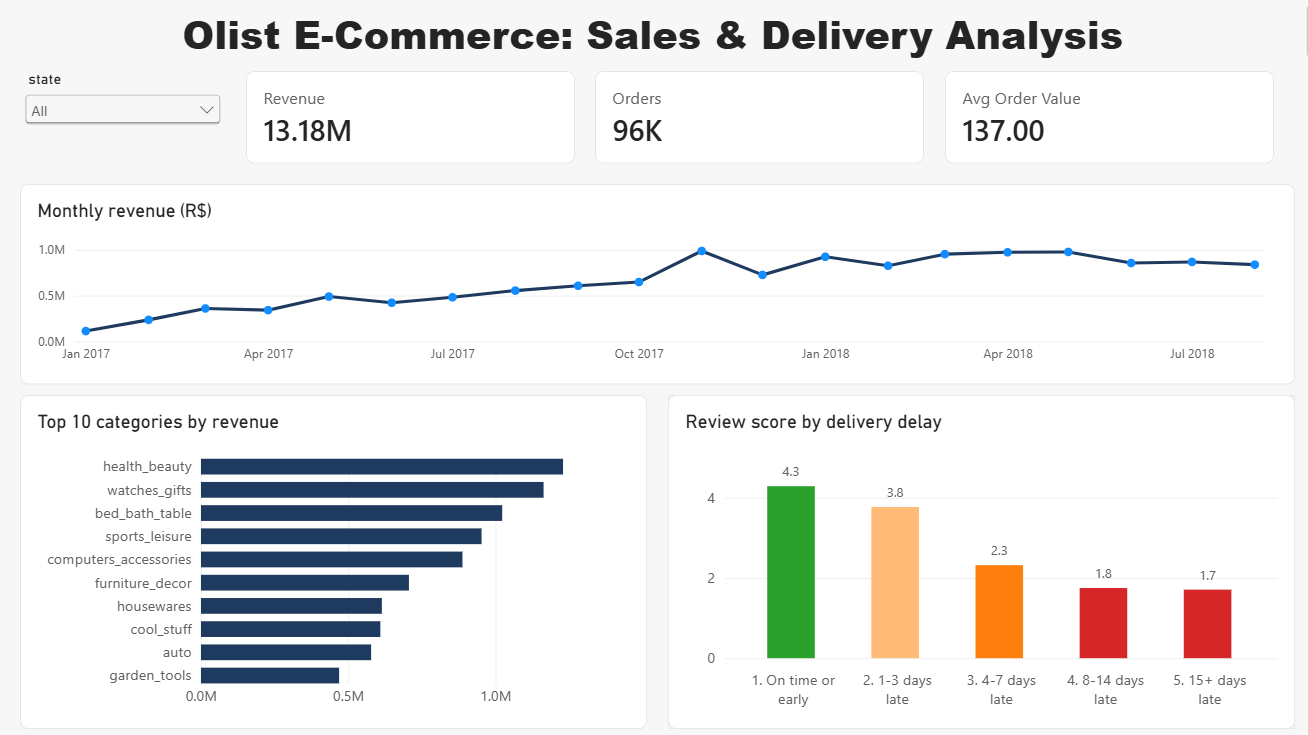

The page's visual inventory and layout, read from the dashboard file:
{"tool":"powerbi","page":{"name":"Page 1","canvas":[1280,720],"ordinal":0},"visuals":[{"type":"cardVisual","fields":{"Data":["order_items_flat.Revenue"]},"box":[240,70,320,90],"z":0},{"type":"cardVisual","fields":{"Data":["order_items_flat.Orders"]},"box":[580,70,320,90],"z":1000},{"type":"cardVisual","fields":{"Data":["order_items_flat.Avg Order Value"]},"box":[920,70,320,90],"z":2000},{"type":"lineChart","title":"Monthly revenue (R$)","fields":{"Category":["order_items_flat.month"],"Y":["order_items_flat.Revenue"]},"box":[20,180,1240,195],"z":3000},{"type":"slicer","fields":{"Values":["order_items_flat.state"]},"box":[20,70,200,90],"z":4000},{"type":"clusteredColumnChart","title":"Review score by delivery delay","fields":{"Category":["q4_delay_vs_reviews.delay_bucket"],"Y":["Avg(q4_delay_vs_reviews.avg_review_score)"]},"box":[650.7,385.2,609.8,325],"z":5000},{"type":"textbox","box":[0,8,1280,50],"z":6000},{"type":"clusteredBarChart","title":"Top 10 categories by revenue","fields":{"Category":["order_items_flat.category"],"Y":["order_items_flat.Revenue"]},"box":[20,385,610,325],"z":7000}]}

Visuals, with their boxes in screenshot pixels (x1, y1, x2, y2), scaled from the page's 1280x720 canvas onto the 1308x735 screenshot:
cardVisual - order_items_flat.Revenue: bbox=[245, 71, 572, 163]
cardVisual - order_items_flat.Orders: bbox=[593, 71, 920, 163]
cardVisual - order_items_flat.Avg Order Value: bbox=[940, 71, 1267, 163]
"Monthly revenue (R$)" lineChart: bbox=[20, 184, 1288, 383]
slicer - order_items_flat.state: bbox=[20, 71, 225, 163]
"Review score by delivery delay" clusteredColumnChart: bbox=[665, 393, 1288, 725]
textbox: bbox=[0, 8, 1307, 59]
"Top 10 categories by revenue" clusteredBarChart: bbox=[20, 393, 644, 725]
